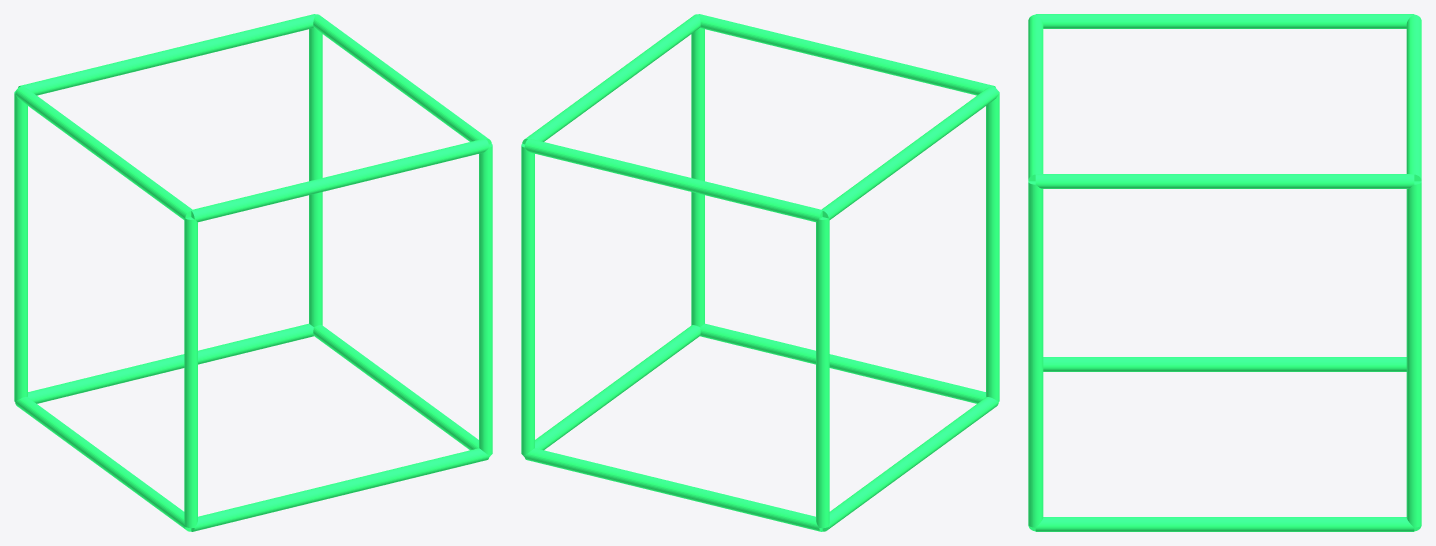
Rendered from gridcell.fbx.
The picture shows the model from 3 angles, left to right: view 1: azimuth 30°, elevation 25°; view 2: azimuth 150°, elevation 25°; view 3: azimuth 270°, elevation 25°; orthographic projection. The views are drawn at different scales.
Parts seen in each view (by area): view 1: Cylinder, Cylinder.009, Cylinder.004, Cylinder.008, Cylinder.002, Cylinder.010, Cylinder.006, Cylinder.011, Cylinder.001, Cylinder.003, Cylinder.005, Cylinder.007; view 2: Cylinder.002, Cylinder.010, Cylinder.006, Cylinder.011, Cylinder, Cylinder.009, Cylinder.004, Cylinder.008, Cylinder.001, Cylinder.003, Cylinder.005, Cylinder.007; view 3: Cylinder.005, Cylinder.007, Cylinder.001, Cylinder.003, Cylinder.006, Cylinder.004, Cylinder.010, Cylinder.009.
Boxes of the visible parts, x1,y1,x2,y2 form: Cylinder: (184, 217, 197, 528); Cylinder.009: (191, 139, 489, 222); Cylinder.004: (479, 143, 492, 455); Cylinder.008: (191, 448, 489, 531); Cylinder.002: (14, 91, 27, 401); Cylinder.010: (18, 14, 315, 95); Cylinder.006: (309, 28, 322, 326); Cylinder.011: (28, 323, 313, 403); Cylinder.001: (15, 86, 192, 219); Cylinder.003: (15, 397, 191, 531); Cylinder.005: (313, 14, 491, 144); Cylinder.007: (313, 325, 490, 457); Cylinder.002: (816, 217, 829, 528); Cylinder.010: (524, 139, 822, 222); Cylinder.006: (521, 143, 534, 455); Cylinder.011: (524, 448, 822, 531); Cylinder: (986, 91, 999, 401); Cylinder.009: (698, 14, 995, 95); Cylinder.004: (691, 28, 704, 326); Cylinder.008: (700, 323, 985, 403); Cylinder.001: (821, 86, 998, 219); Cylinder.003: (822, 397, 998, 531); Cylinder.005: (522, 14, 700, 144); Cylinder.007: (523, 325, 700, 457); Cylinder.005: (1035, 174, 1414, 188); Cylinder.007: (1035, 517, 1414, 531); Cylinder.001: (1035, 14, 1414, 28); Cylinder.003: (1043, 357, 1406, 371); Cylinder.006: (1406, 181, 1421, 527); Cylinder.004: (1028, 181, 1043, 527); Cylinder.010: (1406, 14, 1421, 181); Cylinder.009: (1028, 14, 1043, 181).
Size of the model in its own units: 104 by 104 by 104.
